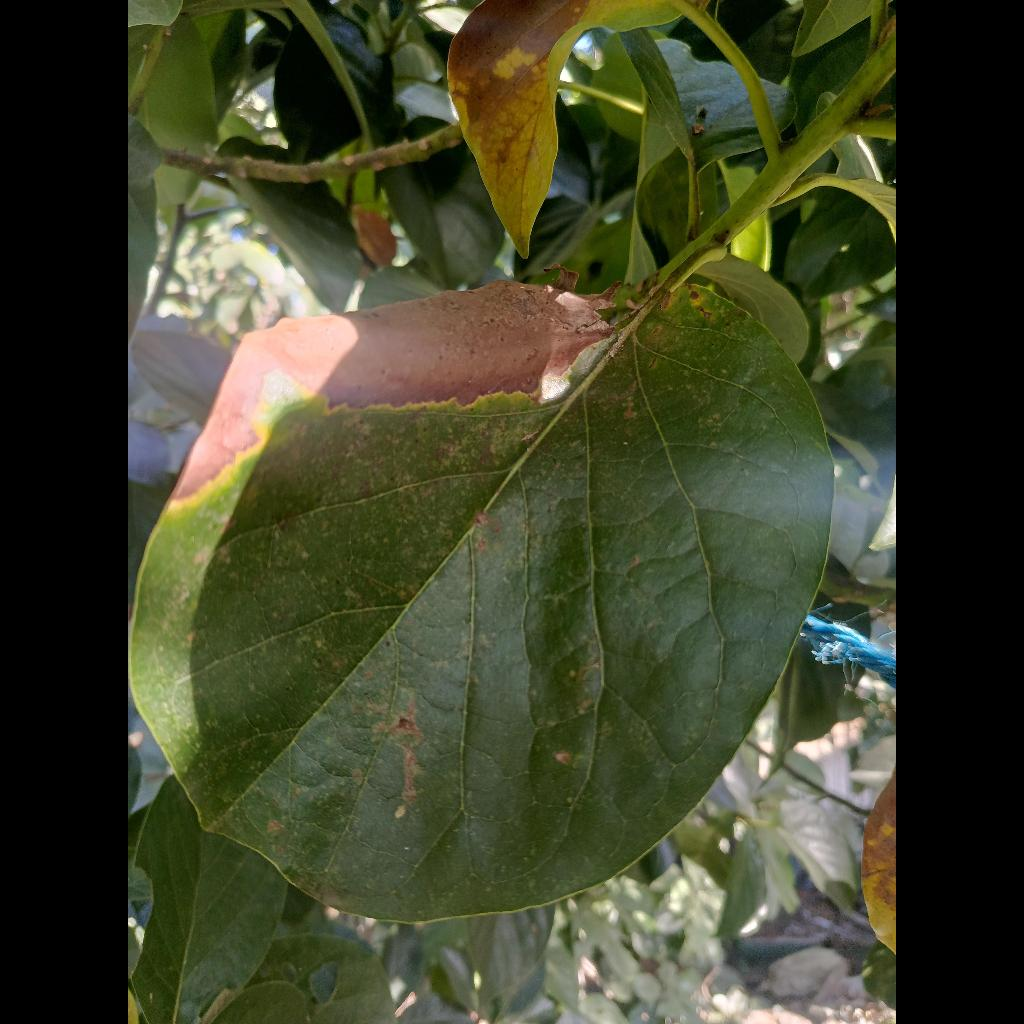Anthracnose: (130, 282, 833, 922)
